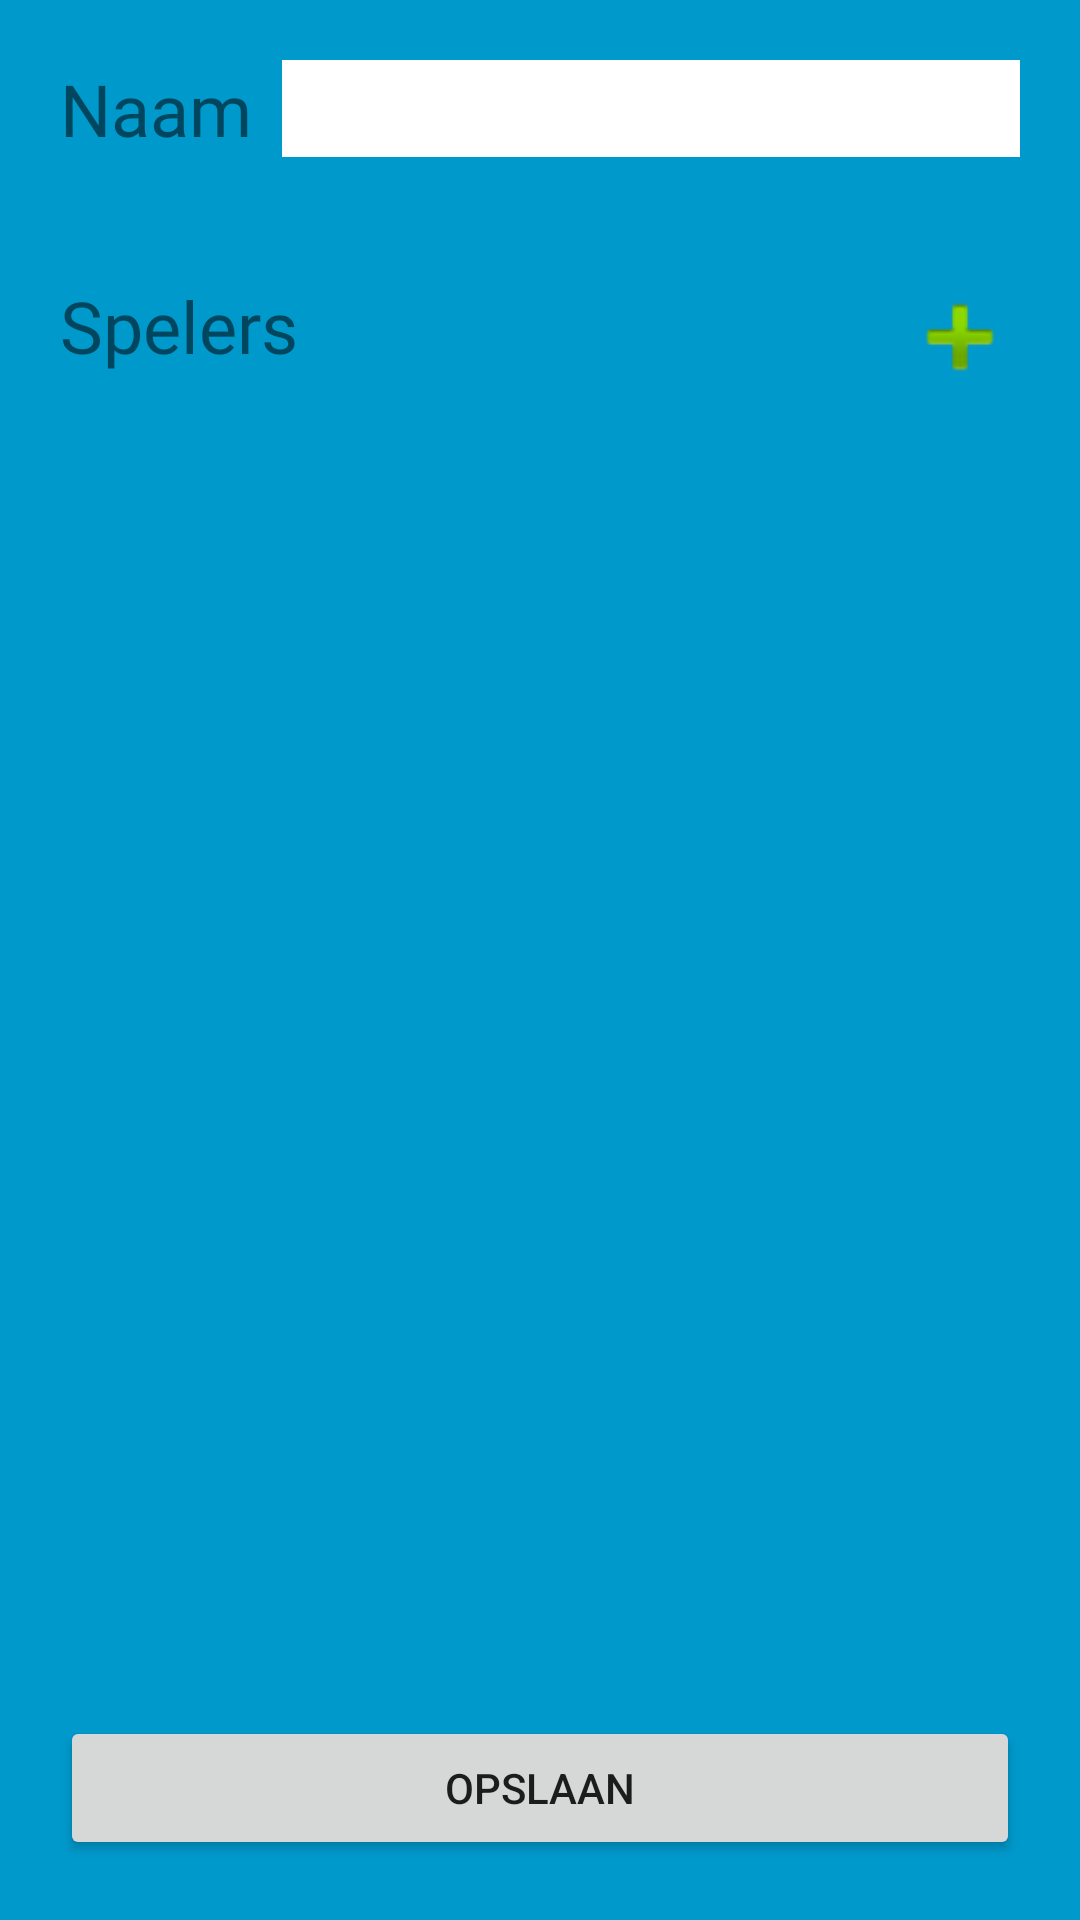

Screen size 1080w x 1920h. Icon name, then its box in pixels as {"left": x1, "top": y1, "right": x2, "bottom": y2}:
add: {"left": 926, "top": 303, "right": 994, "bottom": 371}
